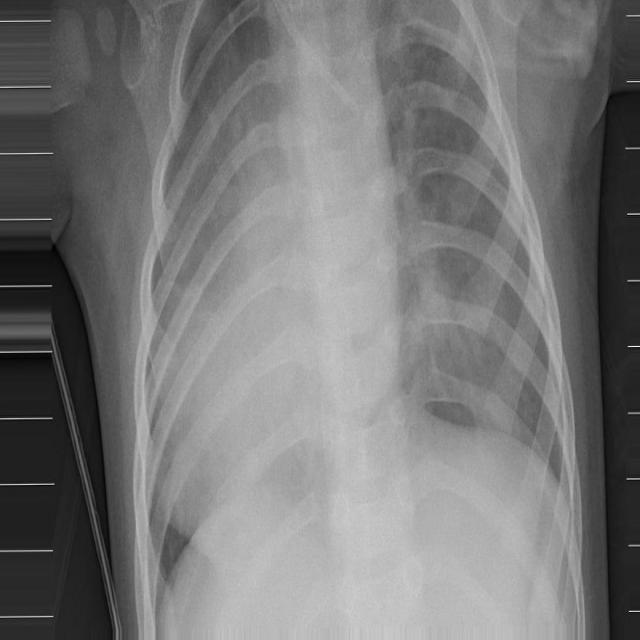bacterial_pneumonia: (46, 5, 640, 640)
